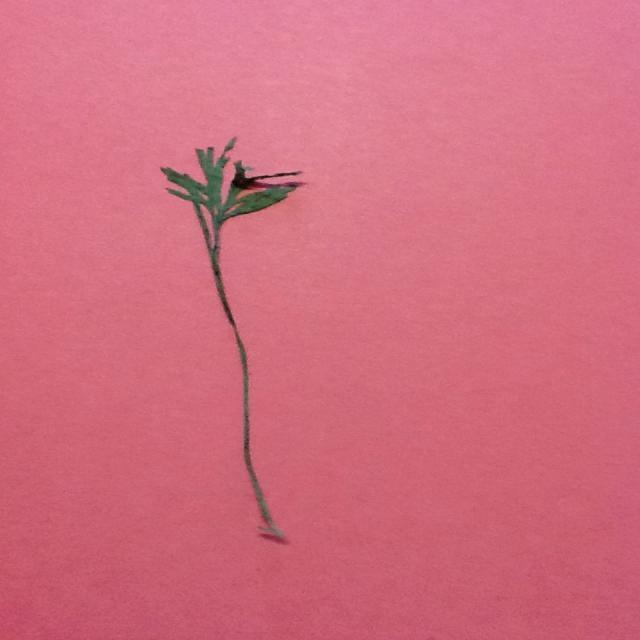foliage: (158, 130, 308, 544)
